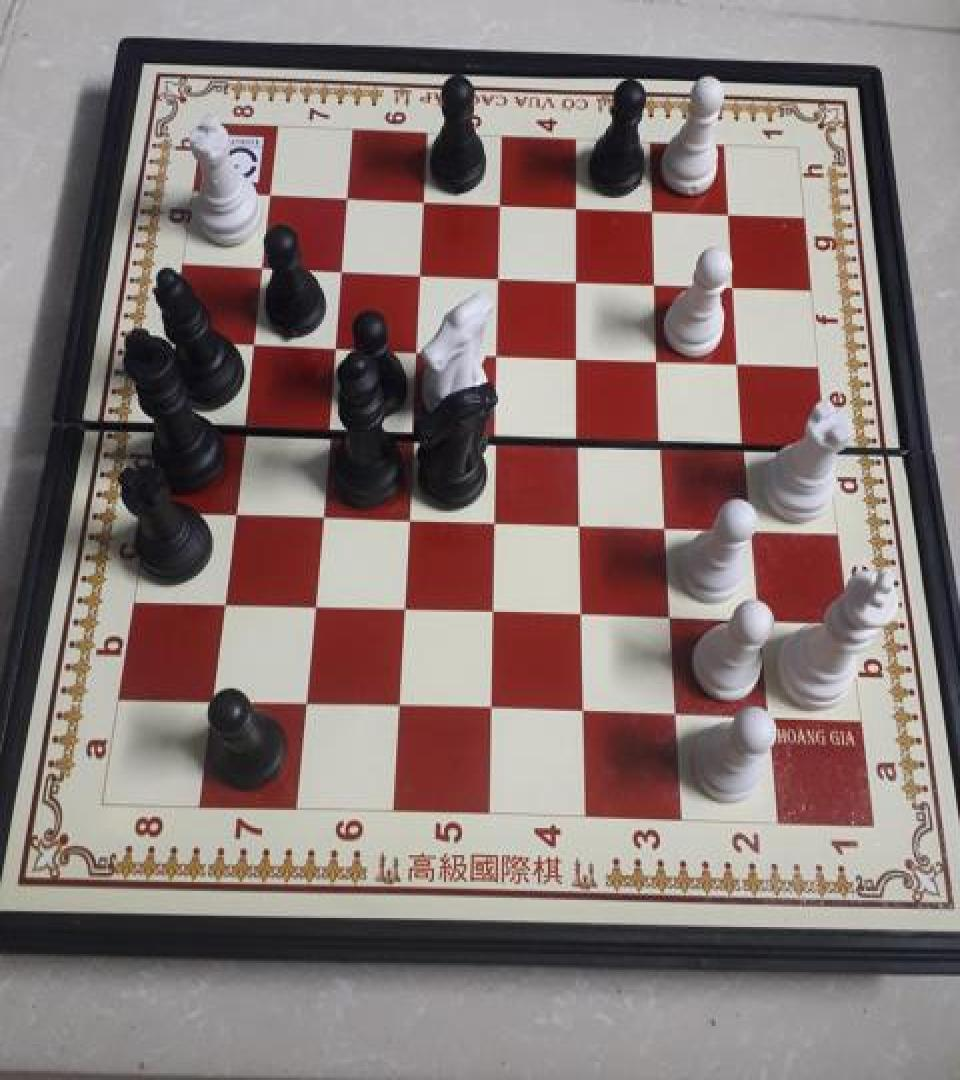xcorner: (477, 688, 509, 725), (755, 696, 787, 733), (208, 581, 240, 618), (197, 680, 229, 716), (291, 683, 323, 719), (384, 686, 416, 722), (570, 691, 602, 727), (663, 694, 695, 730), (299, 585, 331, 621), (389, 587, 421, 623), (479, 590, 511, 626), (568, 593, 600, 629), (658, 595, 690, 631), (747, 598, 779, 634), (219, 490, 251, 526), (306, 493, 338, 529), (393, 495, 425, 531), (480, 498, 512, 534), (567, 500, 599, 536), (653, 504, 685, 540), (739, 506, 771, 542), (229, 404, 261, 440), (313, 406, 345, 442), (397, 410, 429, 446), (481, 412, 513, 448), (565, 415, 597, 451), (649, 418, 681, 454), (732, 421, 764, 457), (238, 323, 270, 359), (320, 326, 352, 362), (483, 332, 515, 368), (564, 334, 596, 370), (645, 338, 677, 374), (726, 340, 758, 376), (246, 248, 278, 284), (326, 251, 358, 287), (405, 253, 437, 289), (484, 256, 516, 292), (562, 259, 594, 295), (641, 262, 673, 298), (719, 264, 751, 300), (254, 176, 286, 212), (331, 179, 363, 215), (408, 182, 440, 218), (561, 188, 593, 224), (637, 191, 669, 227), (713, 194, 745, 230), (401, 329, 433, 364), (485, 186, 517, 221)
